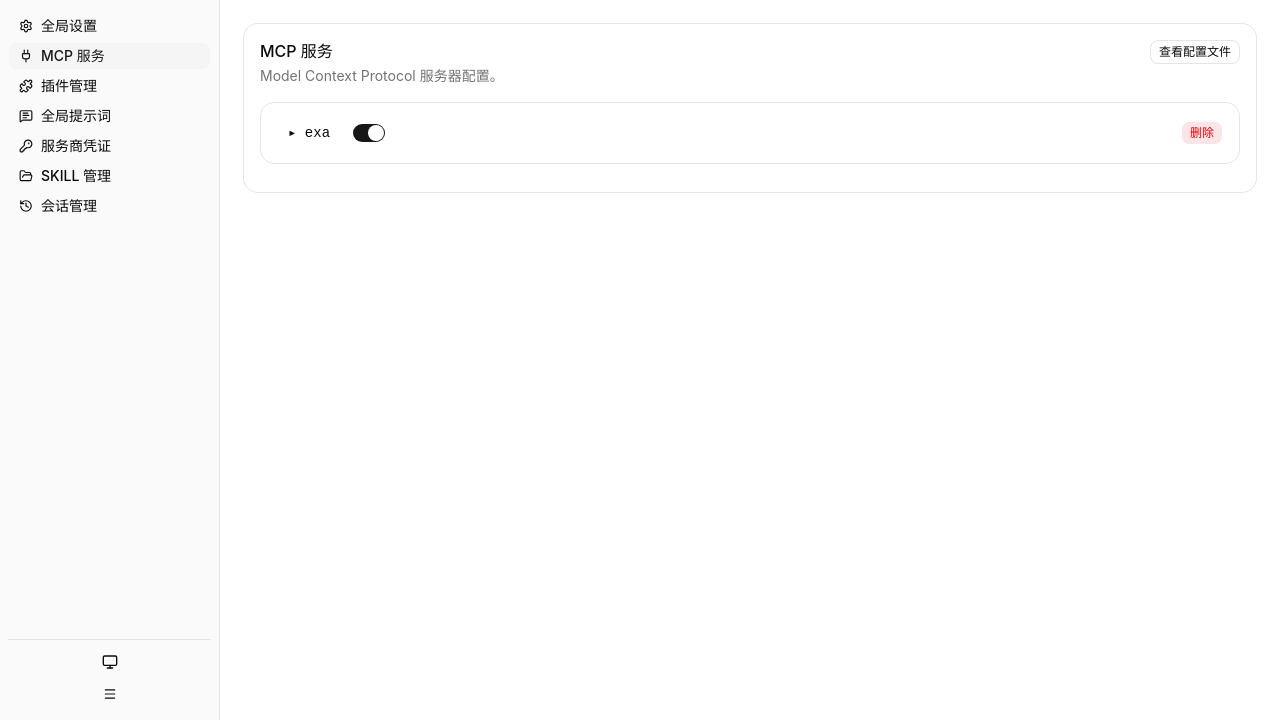
App › navigates to the plugin manager
Expected: the button with aria-label "展开 exa" is shown, [277, 119, 341, 147]
What coordinates should you click on to do the following:
click the button "插件管理"
I would click on:
 (110, 86)
Its box is [8, 72, 211, 100].
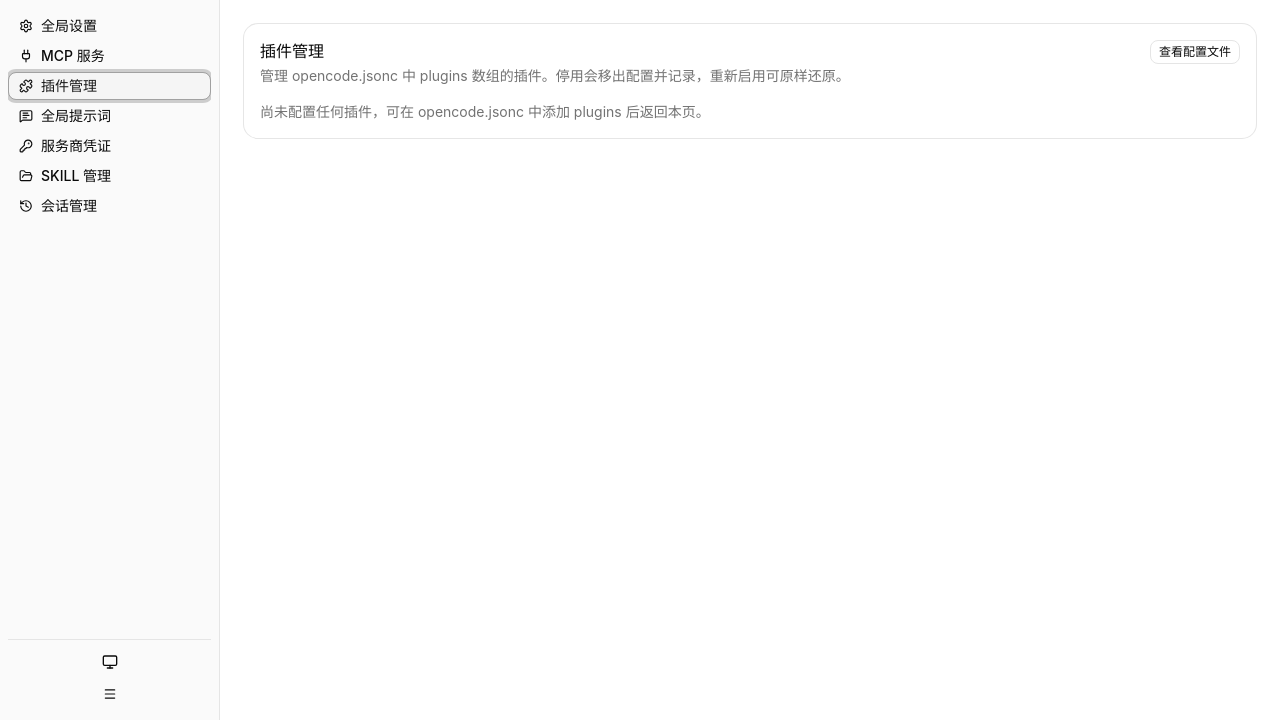
Result: the text "尚未配置任何插件，可在 opencode.jsonc 中添加 plugins 后返回本页。" is shown at [260, 103, 710, 120]
